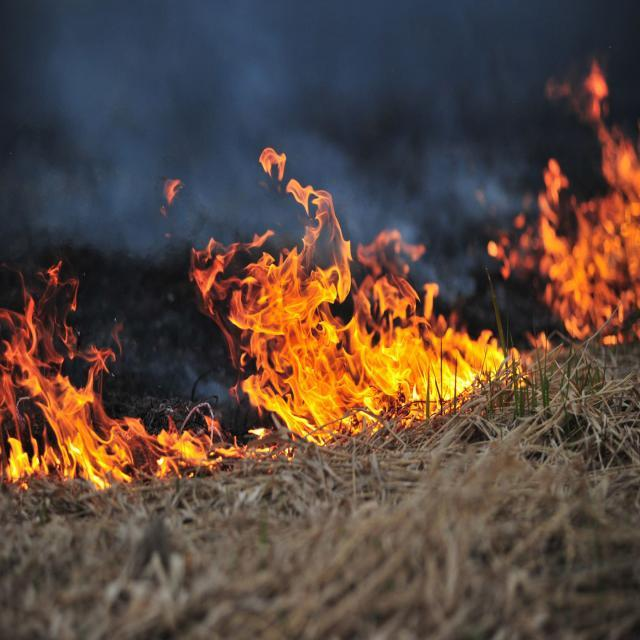Fire: (213, 219, 526, 422), (9, 294, 218, 463), (508, 168, 640, 330)
Smoke: (63, 19, 604, 262)
